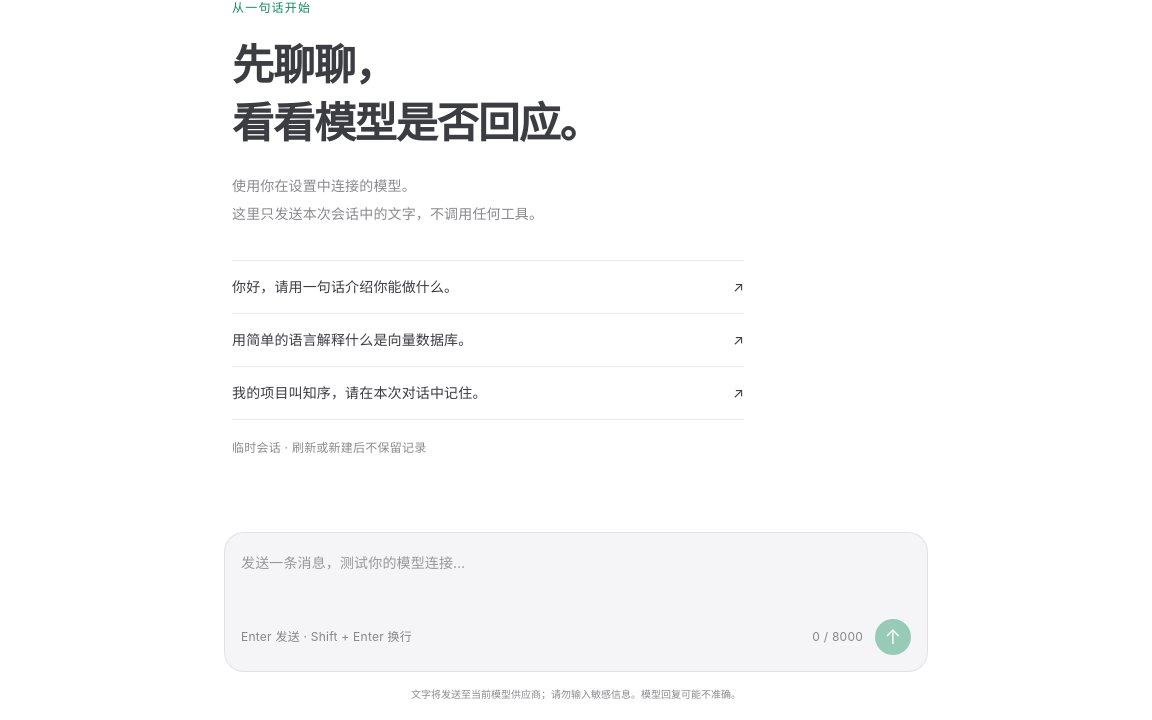
ChatPage › submits the configured model and displays actual streamed text
(page scrolled)
Type "你好" into the text box with placeholder "发送一条消息，测试你的模型连接…" at (576, 576), box x1=241 y1=548 x2=911 y2=604
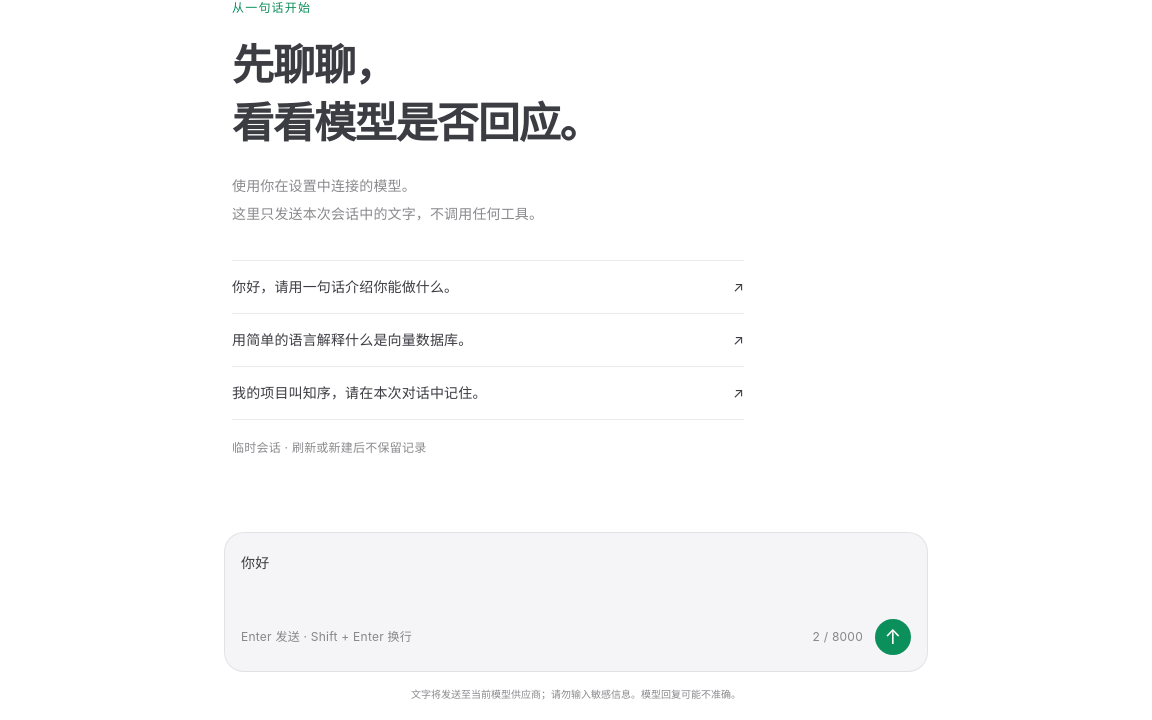
Submit the form, box x1=224 y1=532 x2=928 y2=672
(page scrolled)
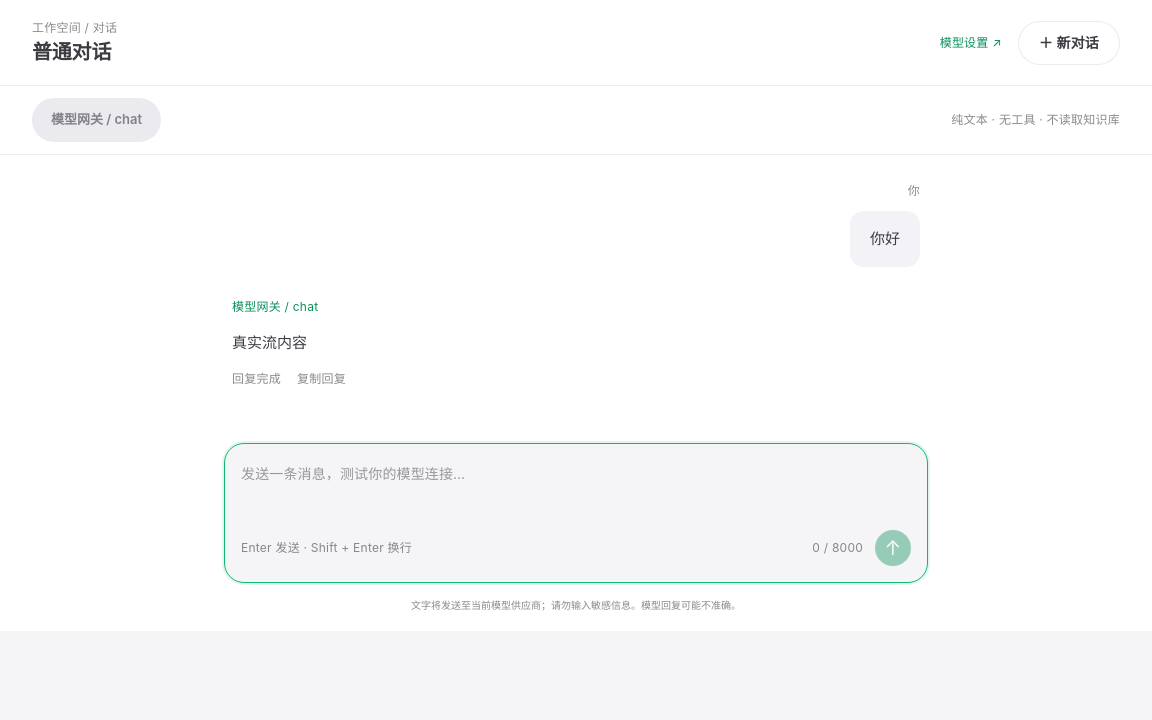
Now the text "真实流内容" is shown, box x1=232 y1=333 x2=307 y2=352
Now the text "回复完成" is shown, box x1=232 y1=371 x2=281 y2=387
